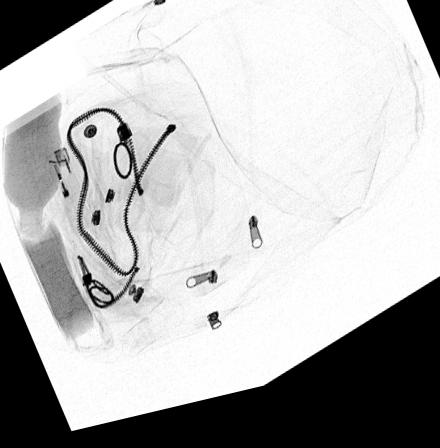Lighter: (43, 147, 90, 234)
